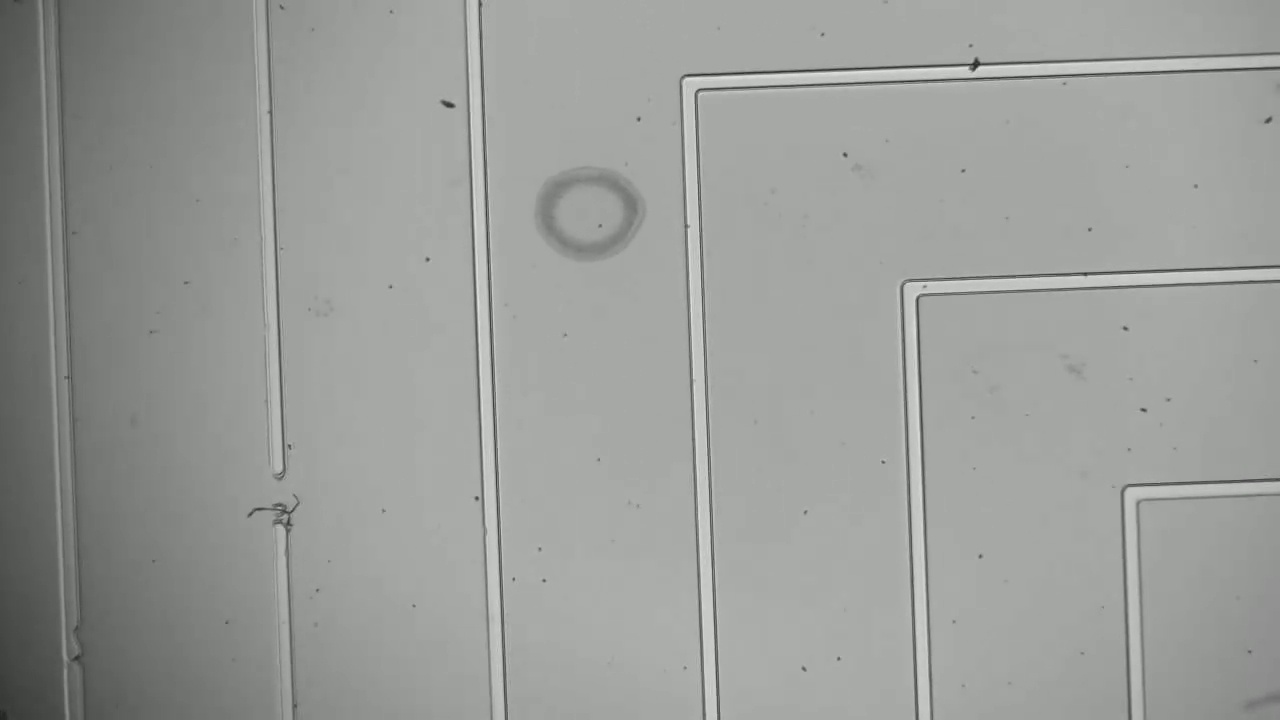edge_bite: (56, 615, 87, 654), (56, 649, 86, 679)
open: (259, 455, 296, 542)
stains_enbedded: (963, 56, 986, 85)
